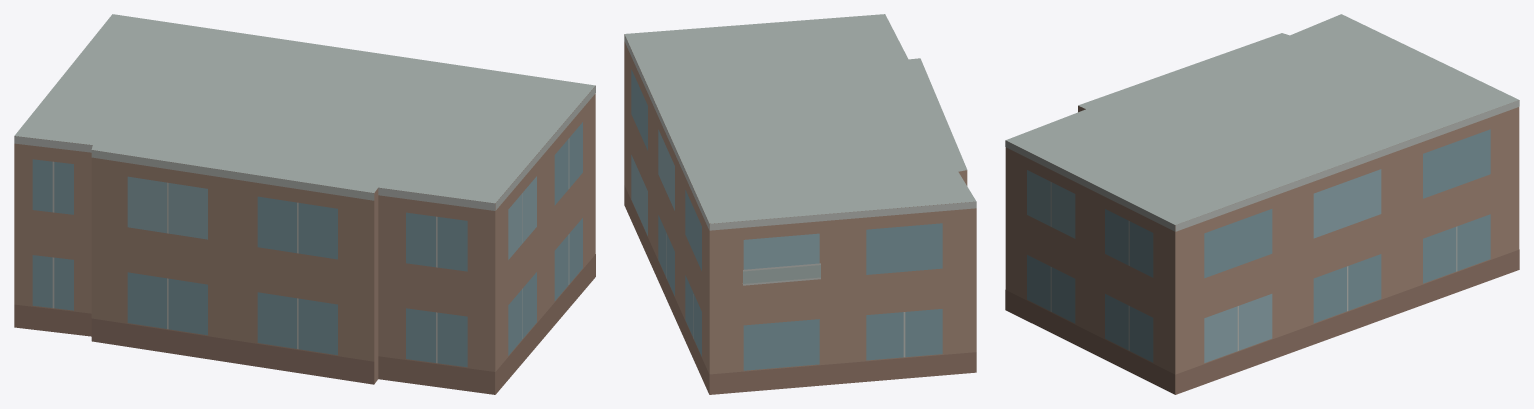
Rendered from survey-upis-32693488.glb.
The picture shows the model from 3 angles, left to right: view 1: azimuth 30°, elevation 25°; view 2: azimuth 150°, elevation 25°; view 3: azimuth 270°, elevation 25°; orthographic projection. The views are drawn at different scales.
Parts seen in each view (by area): view 1: survey-upis-32693488.tmp; view 2: survey-upis-32693488.tmp; view 3: survey-upis-32693488.tmp.
Part boxes in pixels (<box>): survey-upis-32693488.tmp: <box>14,14,595,394</box>; survey-upis-32693488.tmp: <box>624,14,976,394</box>; survey-upis-32693488.tmp: <box>1005,14,1519,394</box>.
Size of the model in its own units: 16.27 by 6.1 by 16.74.
